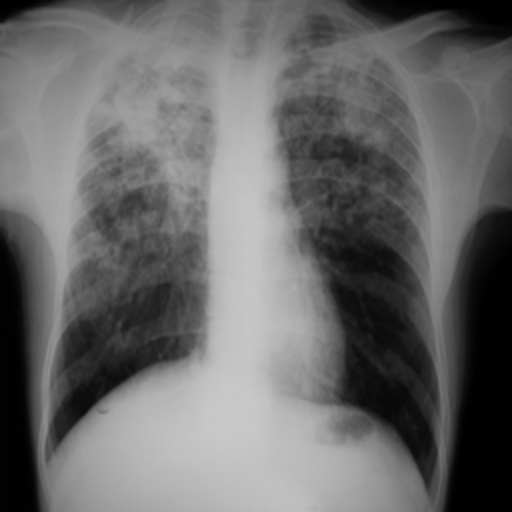TB: (89, 15, 211, 244), (290, 25, 413, 213)
